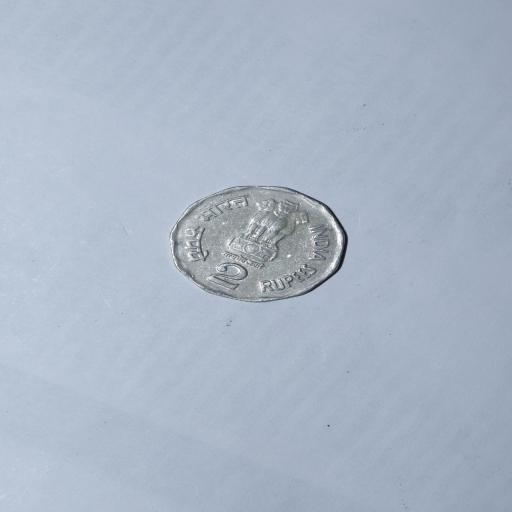rupee2: (170, 186, 351, 303)
